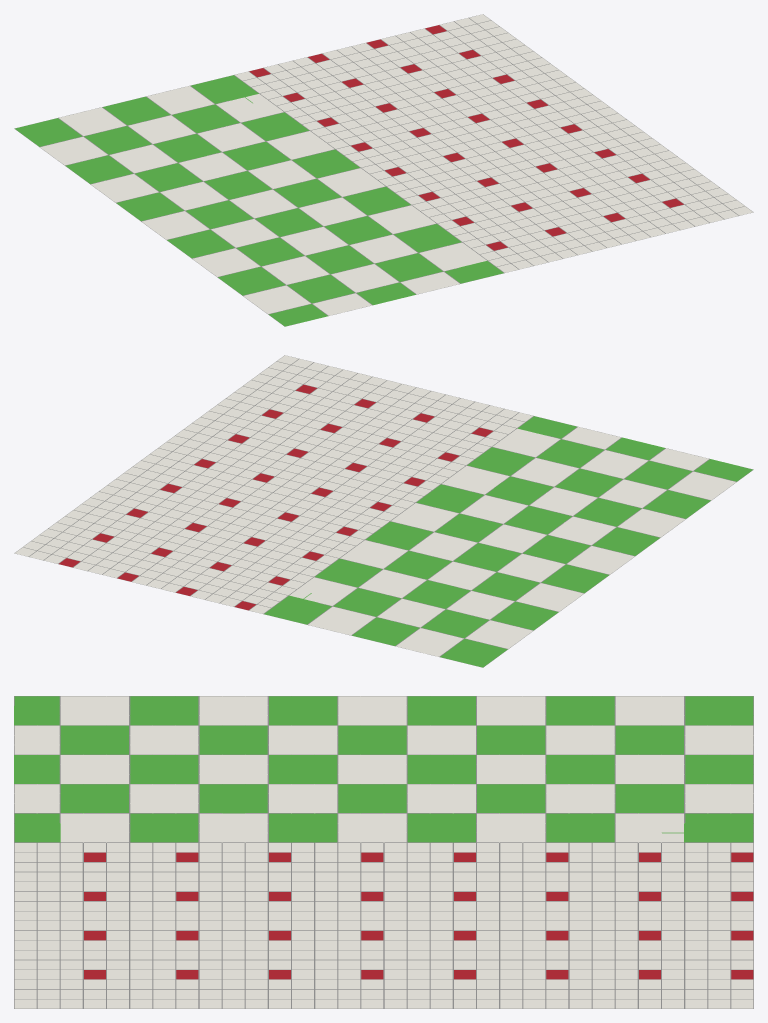
Rendered from Floor.fbx.
The picture shows the model from 3 angles, top to bottom: view 1: azimuth 30°, elevation 25°; view 2: azimuth 150°, elevation 25°; view 3: azimuth 270°, elevation 25°; orthographic projection. The views are drawn at different scales.
Visible parts, largest first — view 1: Floor1; view 2: Floor1; view 3: Floor1.
Part boxes in pixels (x1,y1,x2,y2): Floor1: [14, 14, 753, 326]; Floor1: [14, 355, 753, 667]; Floor1: [14, 696, 753, 1008].
Bounding box in the file's own units: 2000 × 2.84e-12 × 2000.
